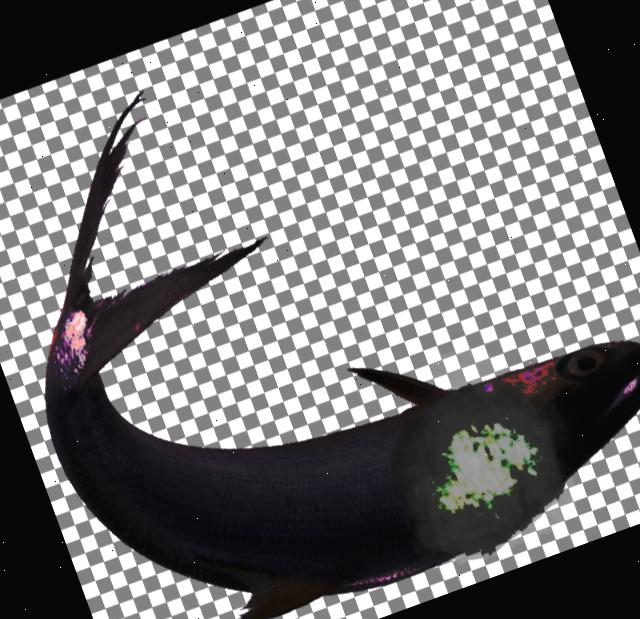Fungal Disease -Saprolegniasis-: (44, 109, 640, 619), (44, 113, 640, 619)
